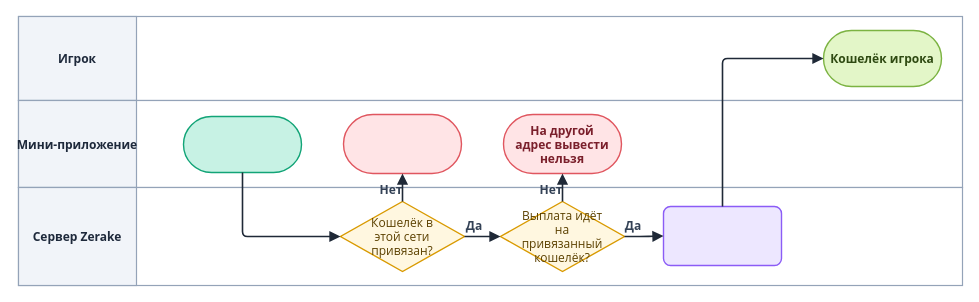
Image size: 979x302. Some labels were removed from this diagram. The shapes that lost their labels are listed below. From the top down, each one's centre as x and y in pixels, then its label:
point (242, 144): Игрок хочет вывести деньги
point (402, 143): Сначала привязать кошелёк
point (722, 235): Сервер отправляет деньги
